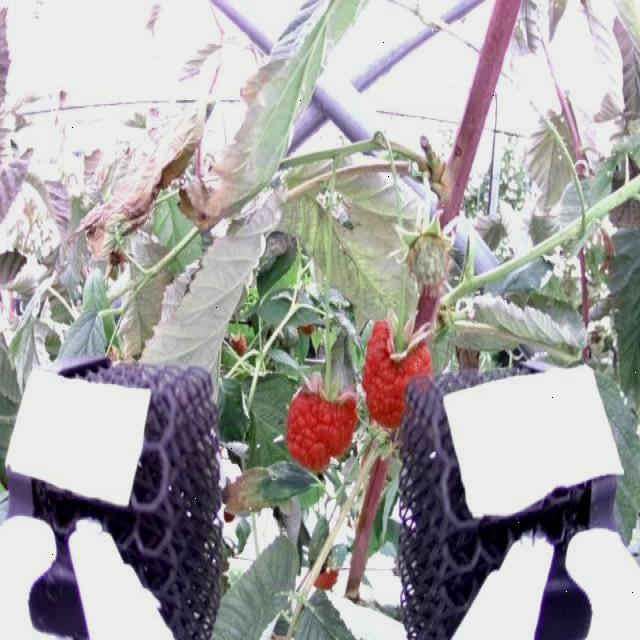Riped berries: (364, 312, 434, 426), (284, 371, 364, 468)
